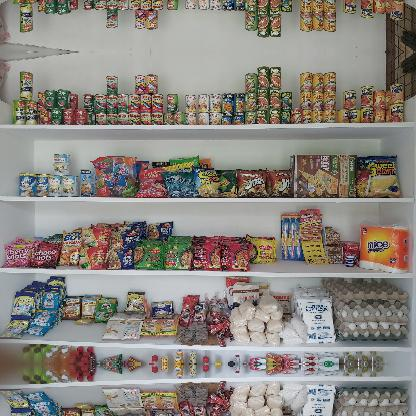Koko-Krunch: (290, 154, 356, 198)
